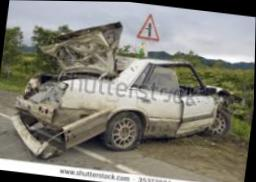Bonnet: (205, 82, 237, 93)
Bumper: (11, 97, 110, 161)
Dickey: (34, 22, 133, 86)
Door: (166, 65, 214, 137)
Fender: (209, 95, 241, 132)
Light: (37, 82, 68, 110), (23, 75, 39, 93)
